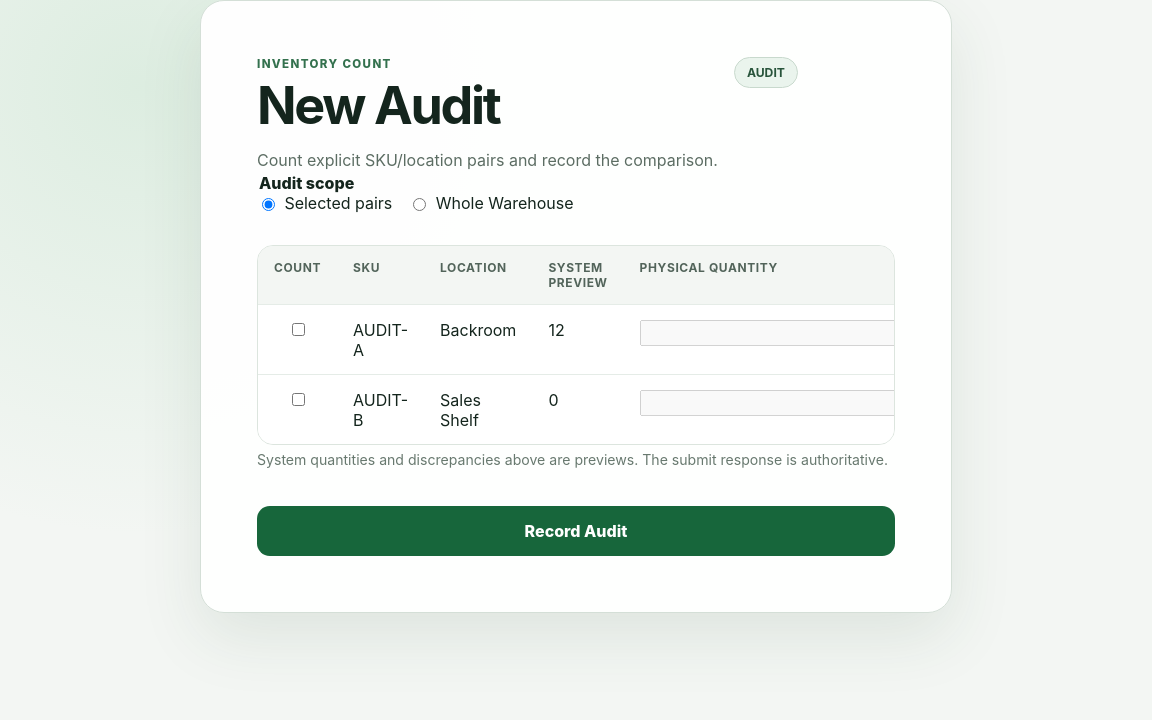
US-AUD-001 Audit page › submits Whole Warehouse with every pair
Click the radio button labelled "Whole Warehouse" at coordinates (420, 204), box 413,198 -> 426,211
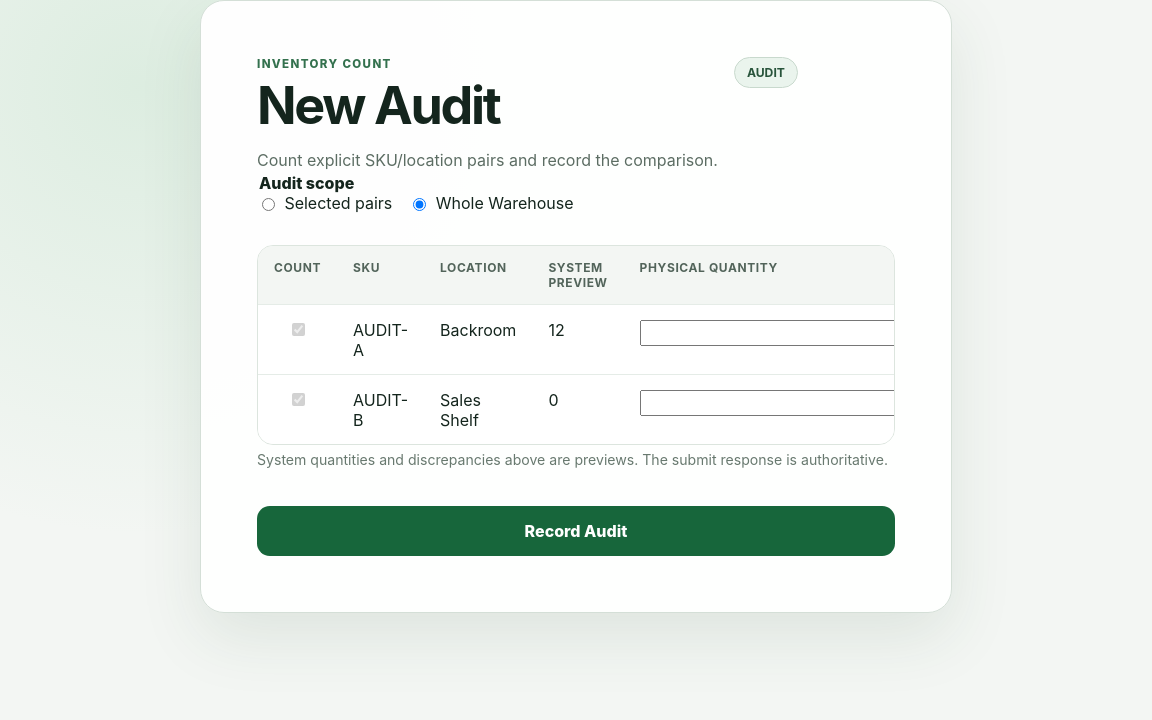
Type "12" into the field named "Physical quantity for AUDIT-A at BACKROOM" at coordinates (768, 333), box 640,320 -> 896,346
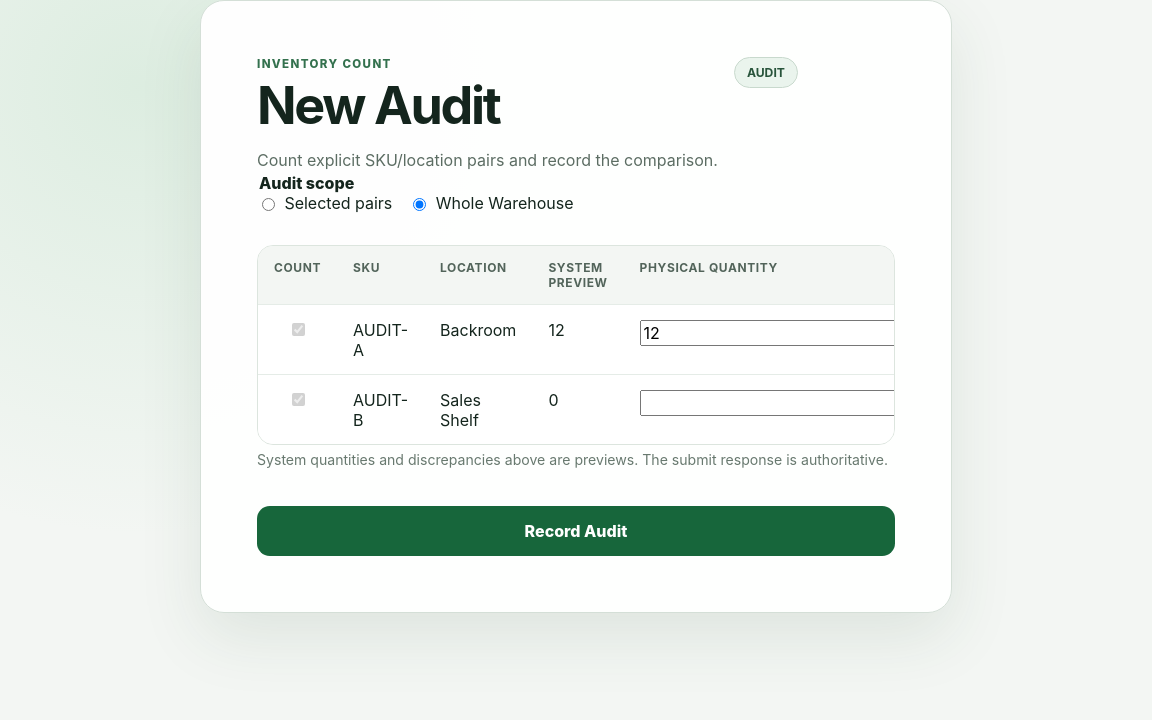
Type "0" into the field named "Physical quantity for AUDIT-B at SALES_SHELF" at coordinates (768, 402), box 640,390 -> 896,416
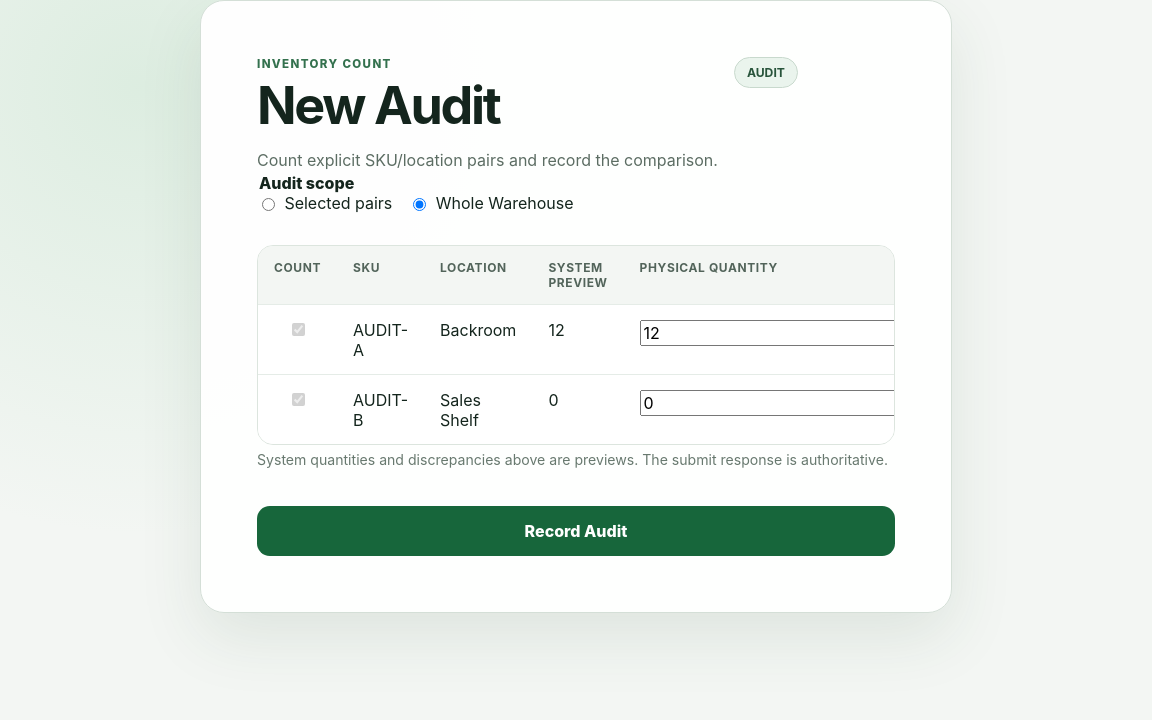
Click the button "Record Audit" at coordinates (576, 531), box 257,506 -> 895,556
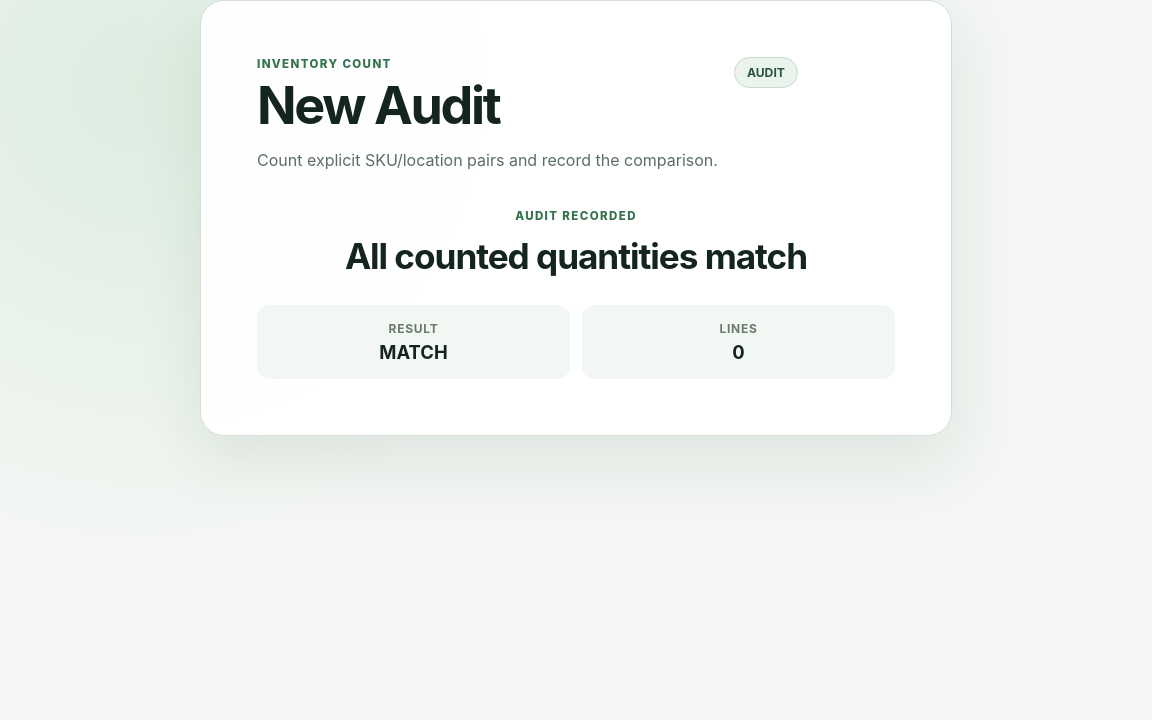
Expected: the heading "All counted quantities match" is shown, 336,235 -> 816,277
